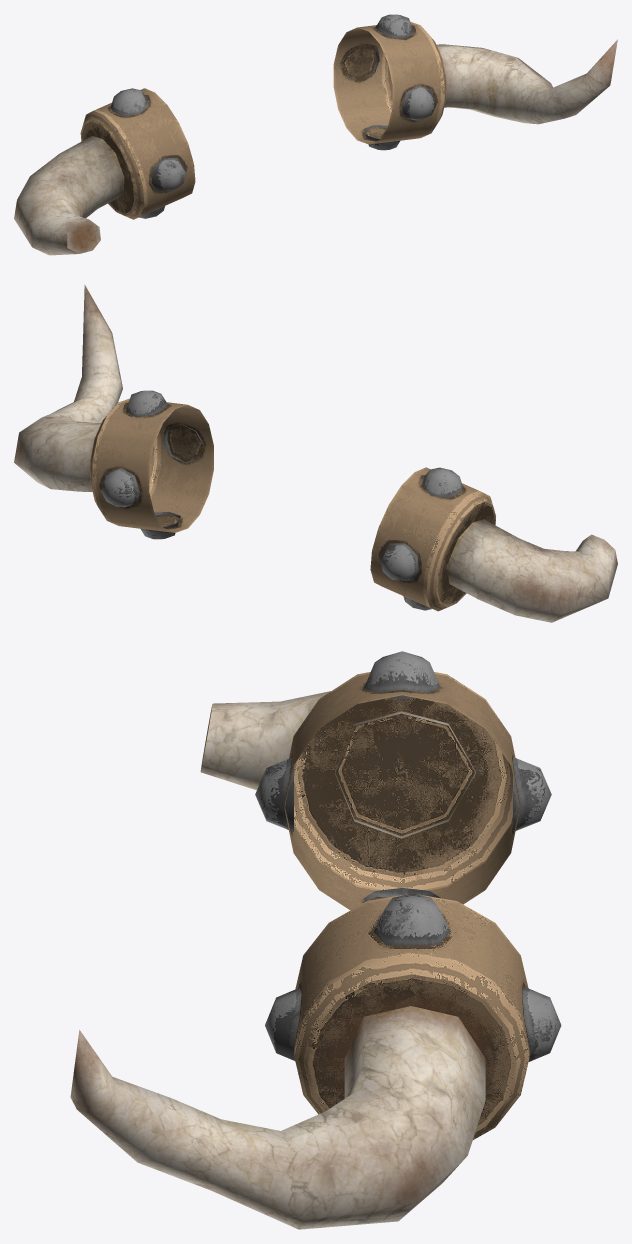
Rendered from HEAD_CHIBI_BULL_HORNS.fbx.
The picture shows the model from 3 angles, top to bottom: view 1: azimuth 30°, elevation 25°; view 2: azimuth 150°, elevation 25°; view 3: azimuth 270°, elevation 25°; orthographic projection. The views are drawn at different scales.
Parts seen in each view (by area): view 1: HEAD_CHIBI_BULL_HORNS; view 2: HEAD_CHIBI_BULL_HORNS; view 3: HEAD_CHIBI_BULL_HORNS.
Part boxes in pixels (bbox=[...]): HEAD_CHIBI_BULL_HORNS: bbox=[14, 14, 617, 255]; HEAD_CHIBI_BULL_HORNS: bbox=[14, 284, 617, 622]; HEAD_CHIBI_BULL_HORNS: bbox=[70, 651, 561, 1229].
Bounding box in the file's own units: 0.1367 × 0.0348 × 0.0546.
